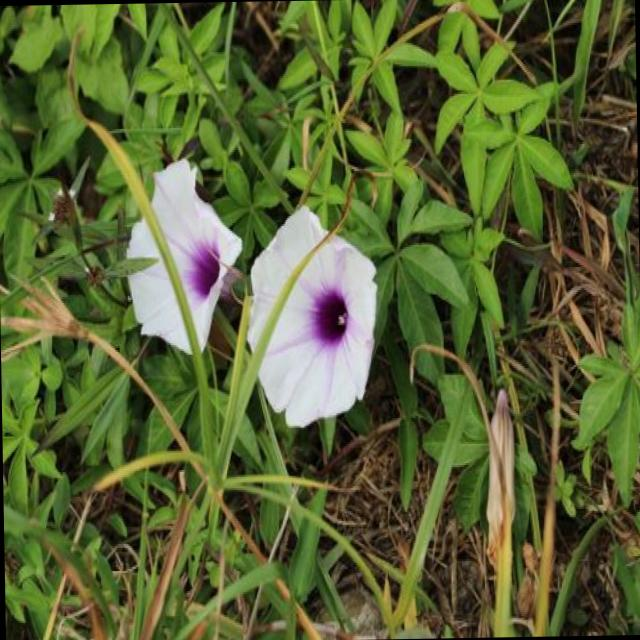ipomoea: (242, 200, 382, 434), (120, 153, 245, 361)
